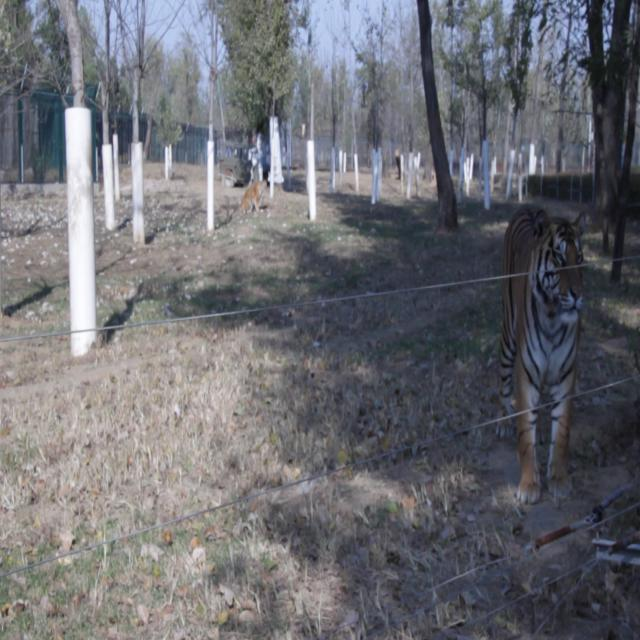Tiger: (494, 185, 589, 520)
